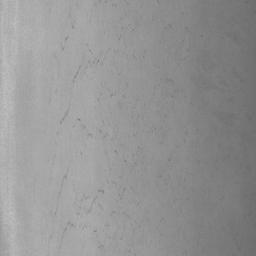Silk spot: (61, 221, 76, 241), (72, 65, 82, 83), (60, 108, 69, 125), (88, 56, 104, 65)
